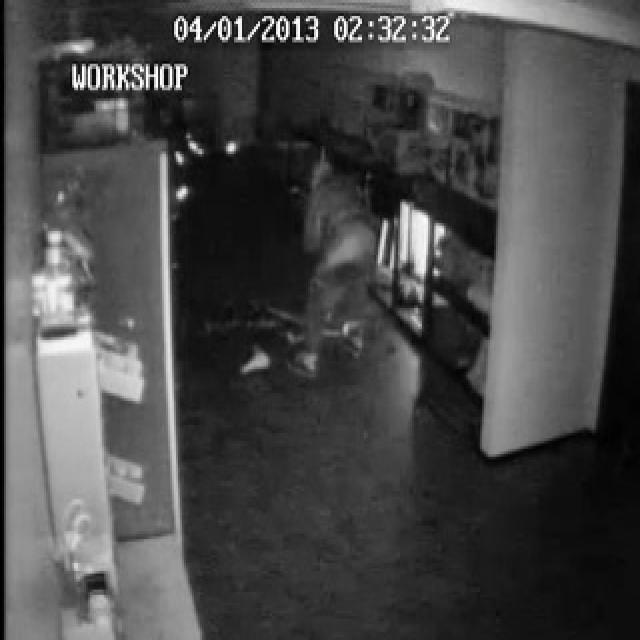thief: (297, 148, 366, 330)
